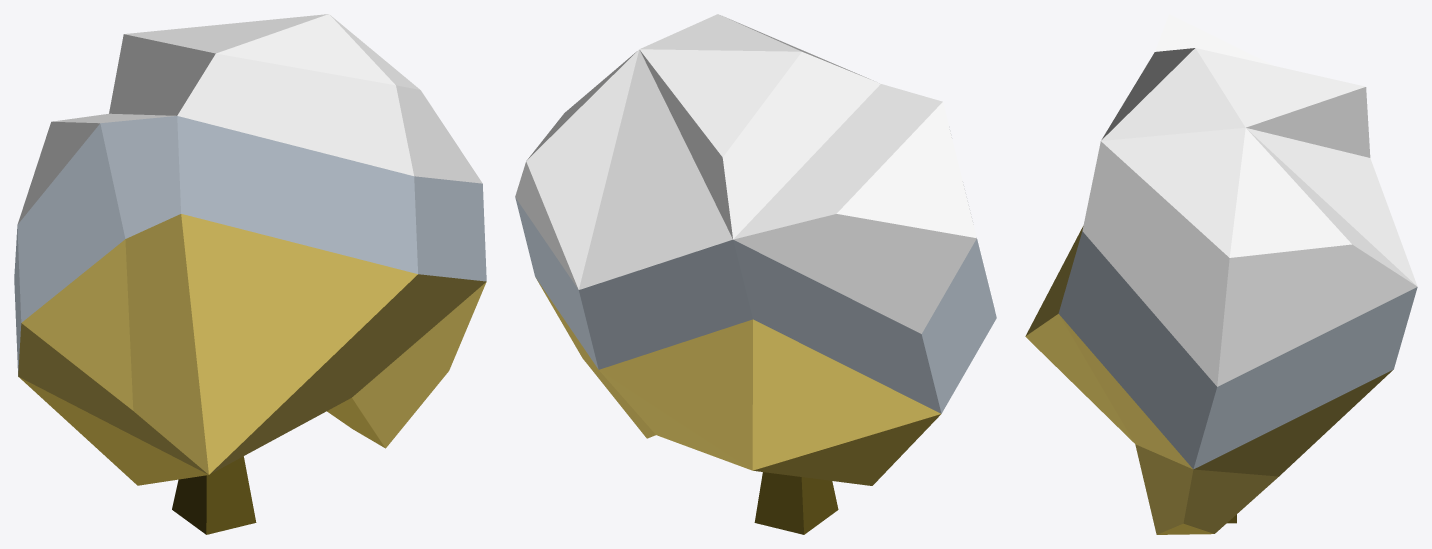
File: BushWinter4_Alt2.fbx
The picture shows the model from 3 angles, left to right: view 1: azimuth 30°, elevation 25°; view 2: azimuth 150°, elevation 25°; view 3: azimuth 270°, elevation 25°; orthographic projection.
Parts seen in each view (by area): view 1: BushWinter4_Alt2; view 2: BushWinter4_Alt2; view 3: BushWinter4_Alt2.
Boxes of the visible parts, box(x1,y1,x2,y2) form: BushWinter4_Alt2: box(14, 14, 486, 534); BushWinter4_Alt2: box(515, 14, 996, 534); BushWinter4_Alt2: box(1025, 14, 1417, 534).
Bounding box in the file's own units: 0.474 × 0.4457 × 0.343.
